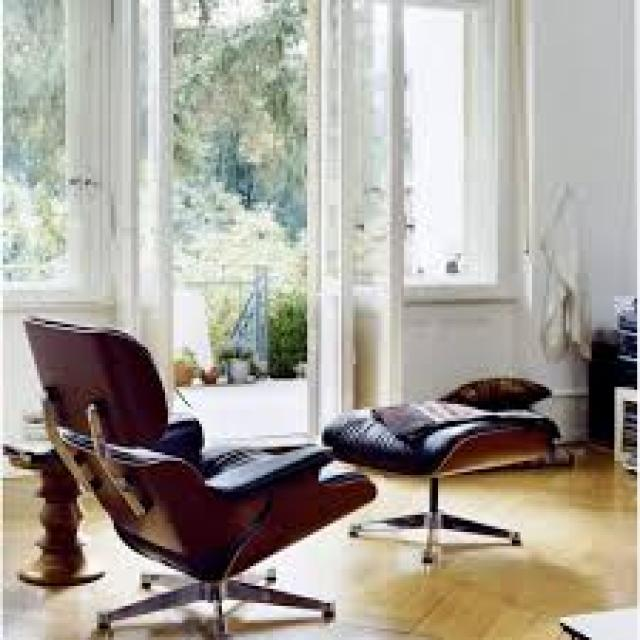chair: (1, 311, 386, 640)
